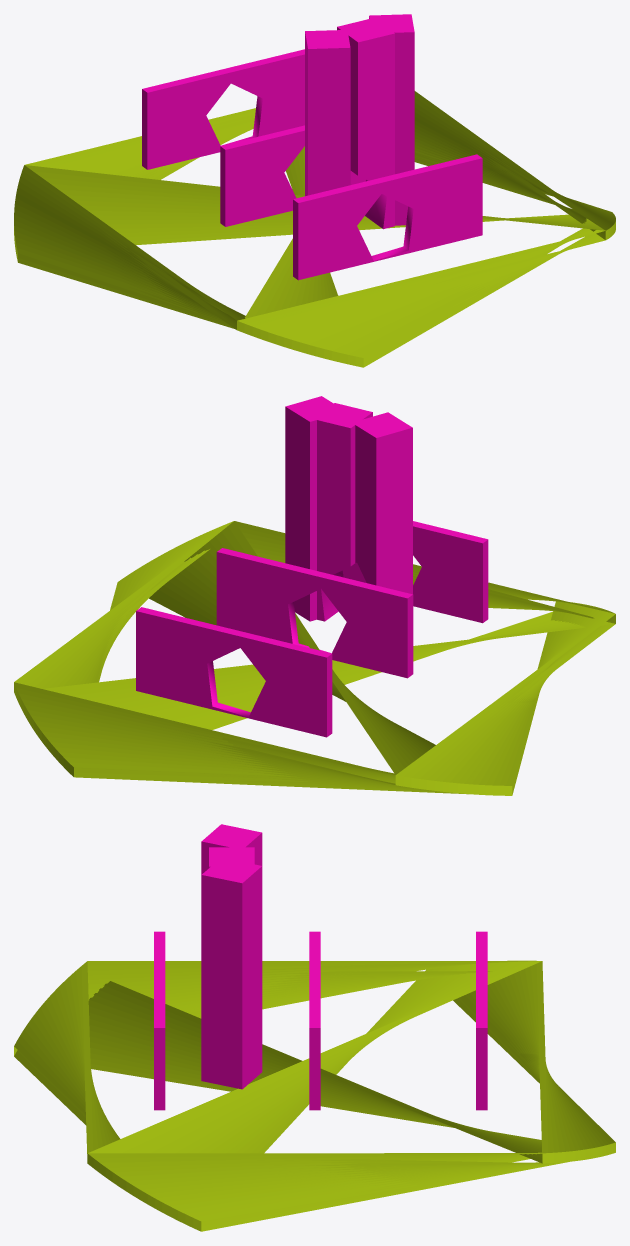
File: cena0BLENDER.glb
3 renders of one model, top to bottom at view 1: azimuth 30°, elevation 25°; view 2: azimuth 150°, elevation 25°; view 3: azimuth 270°, elevation 25°, orthographic. The views are drawn at different scales.
Parts seen in each view (by area): view 1: CSGBox3Dchao2, CSGCombiner3D2; view 2: CSGCombiner3D2, CSGBox3Dchao2; view 3: CSGBox3Dchao2, CSGCombiner3D2.
Part boxes in pixels (x1,y1,x2,y2): CSGBox3Dchao2: [14, 91, 615, 367]; CSGCombiner3D2: [142, 14, 482, 280]; CSGCombiner3D2: [136, 396, 488, 737]; CSGBox3Dchao2: [14, 521, 615, 795]; CSGBox3Dchao2: [14, 960, 615, 1231]; CSGCombiner3D2: [154, 824, 487, 1110].
Size of the model in its own units: 13.23 by 6.16 by 13.23.
